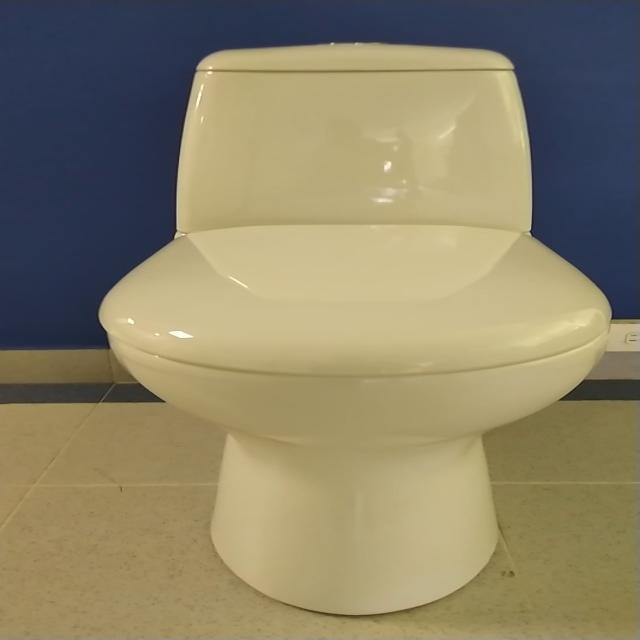toilet: (97, 41, 612, 616)
